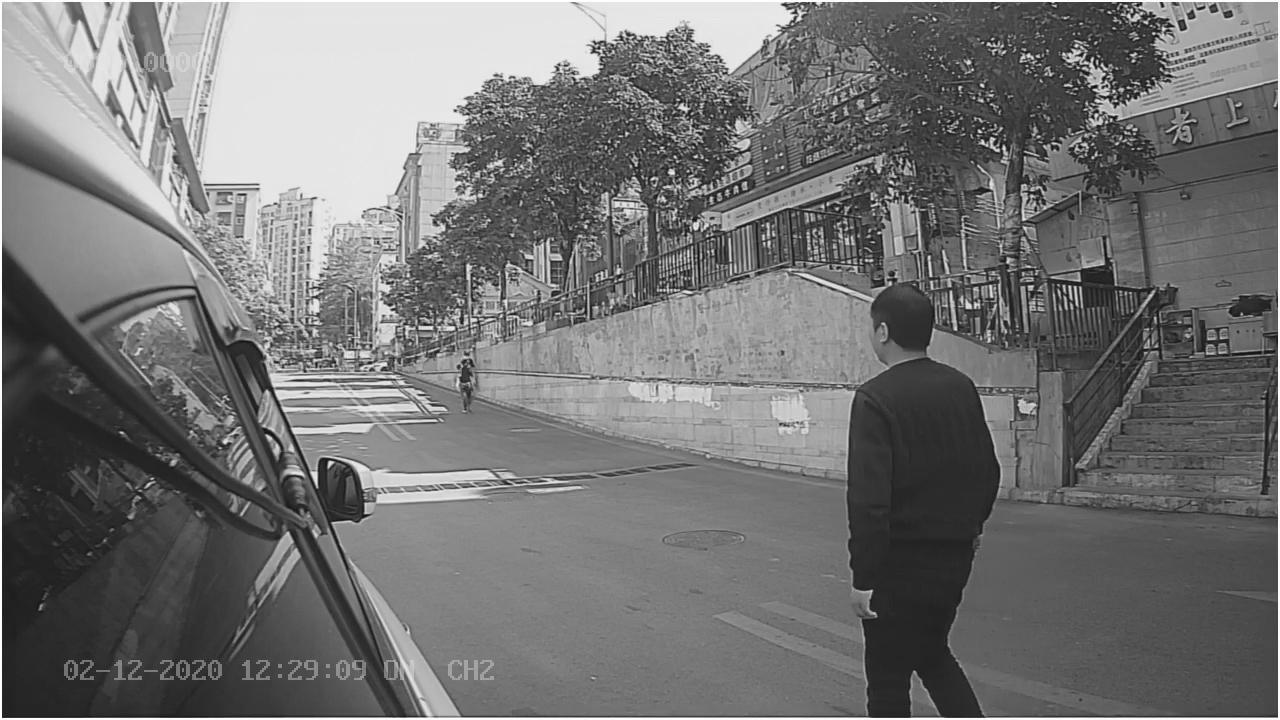person: (830, 270, 1033, 627)
